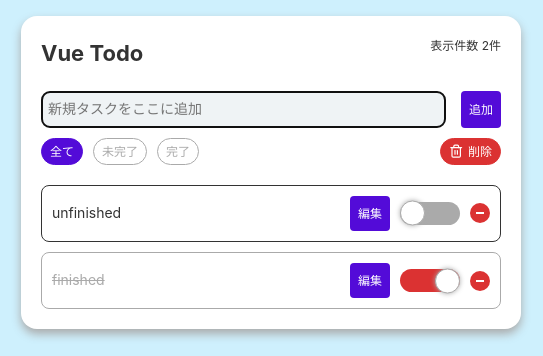
Scenario: TodoTemplate › filters to show only finished items
Click the button with aria-label "filter-task-finished". click: [178, 151]
box: [157,138,199,165]
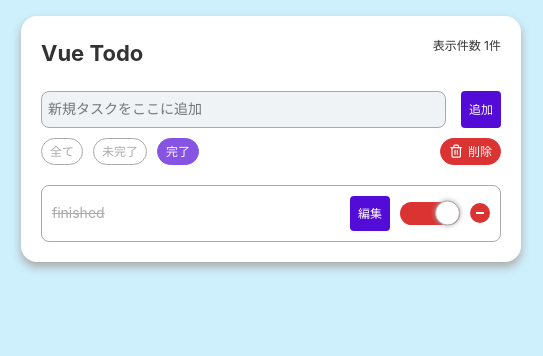
expect the text "finished" is shown: met, box [52,204,105,221]
expect the text "unfinished" is gone: met
